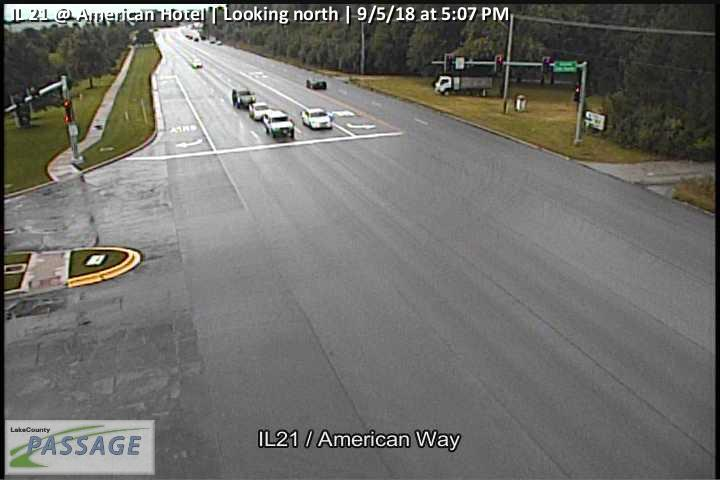SUV: (263, 108, 295, 139)
Sedan: (300, 108, 332, 129), (231, 86, 256, 107), (249, 101, 273, 120), (306, 77, 328, 90)
Truck: (433, 76, 494, 95)
